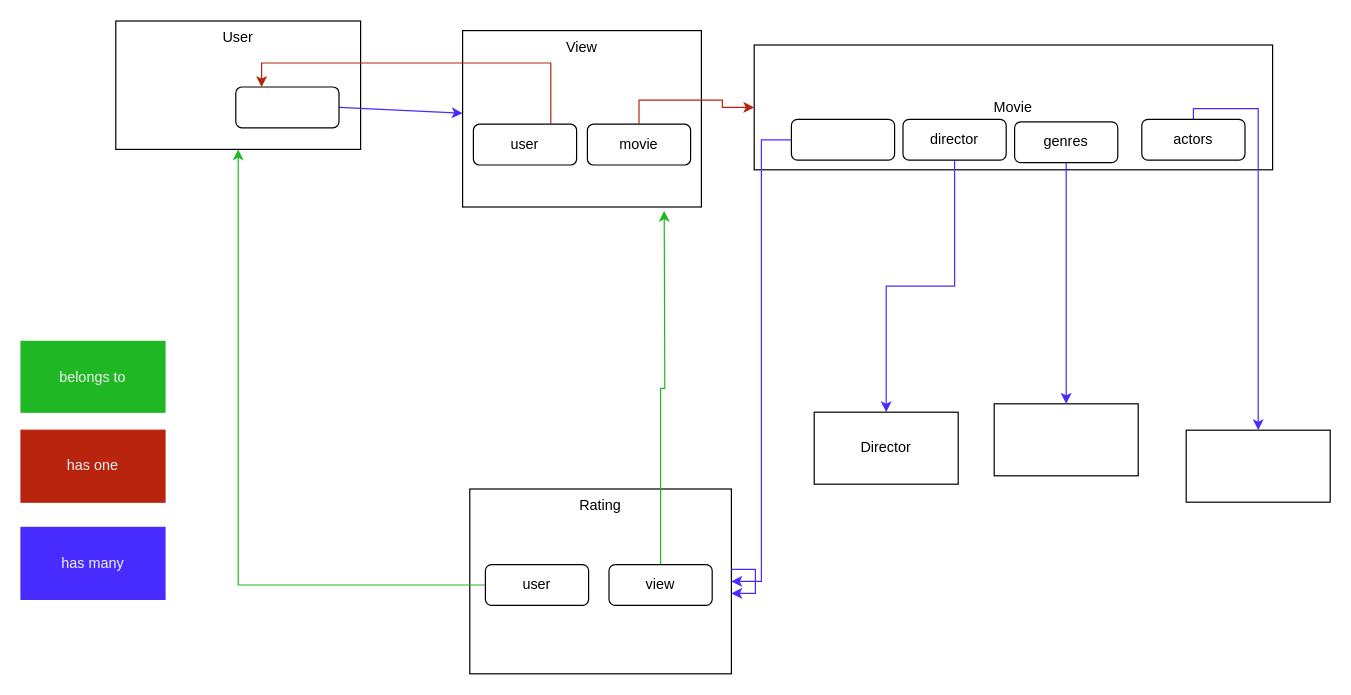
The diagram is 1351 pixels wide and 695 high, and some of its shapes have lost their labels. Each missing label, with the centre of its shape:
Actor: pixel 1257 465
Genre: pixel 1065 439
ratings: pixel 842 139
views: pixel 287 107
